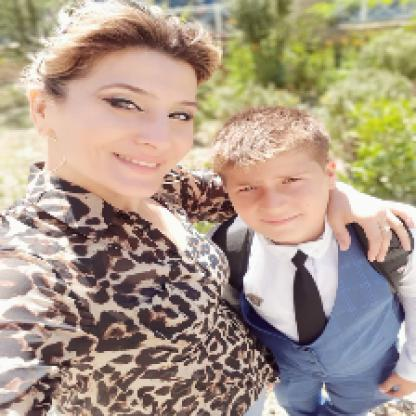child: (205, 101, 415, 415)
